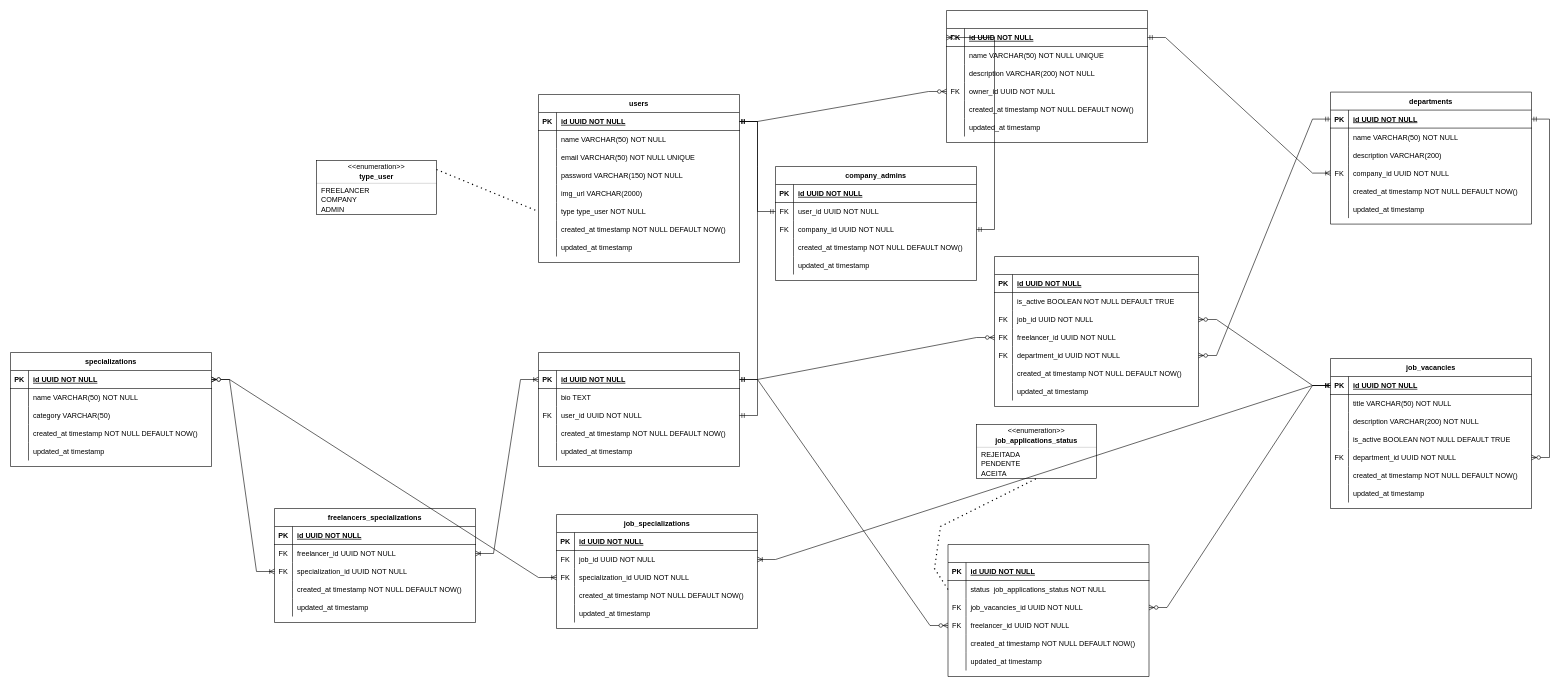
Image size: 1565x687. Some labels were removed from this diagram. The shapes that lost their labels are listed below. From the top down, each one's box as (x1, y1, x2, y2) in pixels, then its label:
(946, 10, 1148, 142): companies
(994, 256, 1198, 406): contracts
(538, 352, 740, 466): freelancers
(947, 544, 1149, 676): job_vacancies_applications
